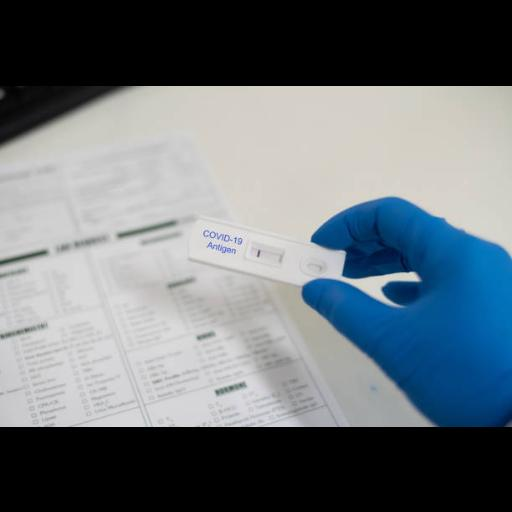Neg: (185, 212, 349, 296)
